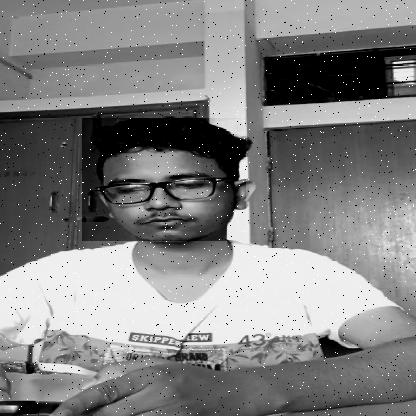Normal: (82, 118, 246, 241)
